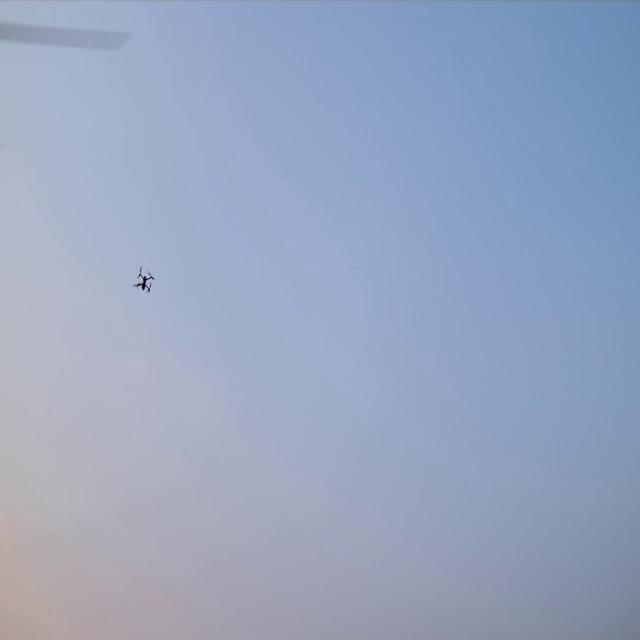UAV: (136, 269, 152, 291)
